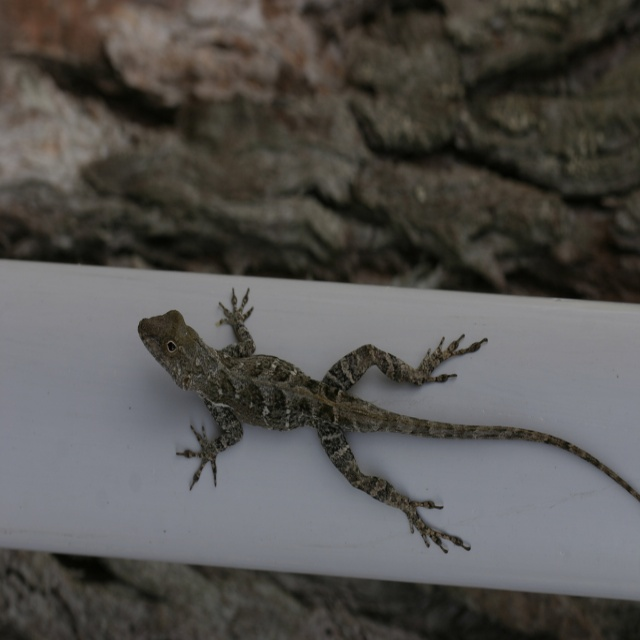Lizard: (136, 287, 637, 558)
